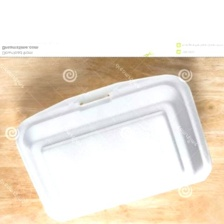foam_box: (9, 71, 217, 223)
